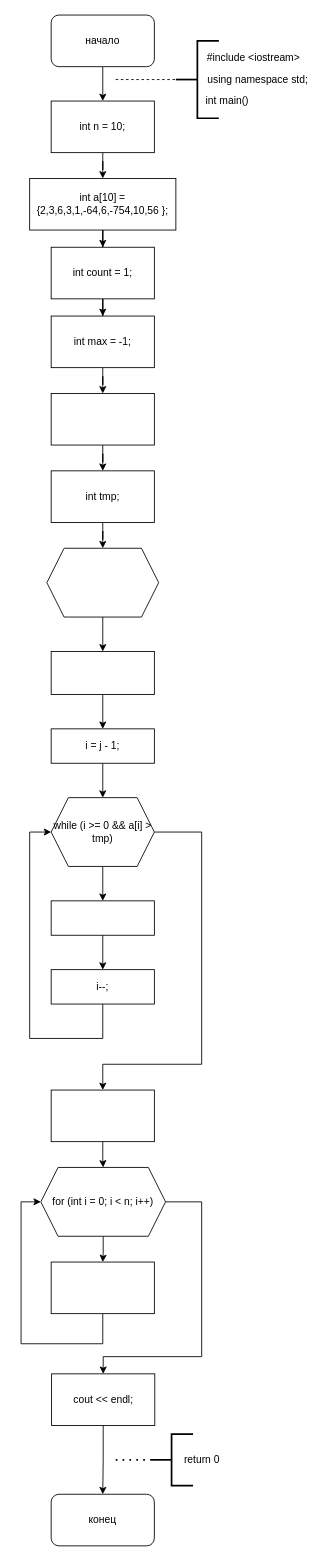
This 329x1561 diagram has some shape labels left out. The centre of each missing label's shape, as x and y in pixels:
a[i + 1] = a[i];: the point at 102,917
a[i + 1] = tmp;: the point at 102,1115
cout << a[i] << " ";: the point at 102,1287
for (int j = 1; j < n; j++): the point at 102,582
int i = 0;: the point at 102,419
tmp = a[j];: the point at 102,672
